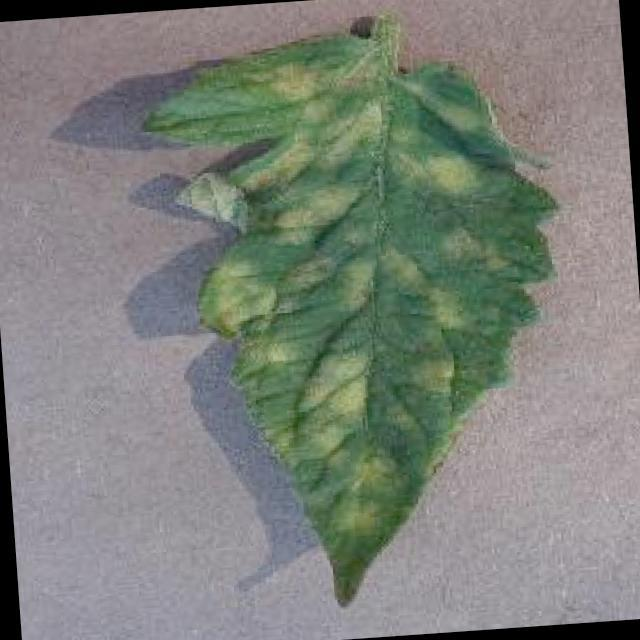Tomato mold leaf: (146, 18, 592, 625)
